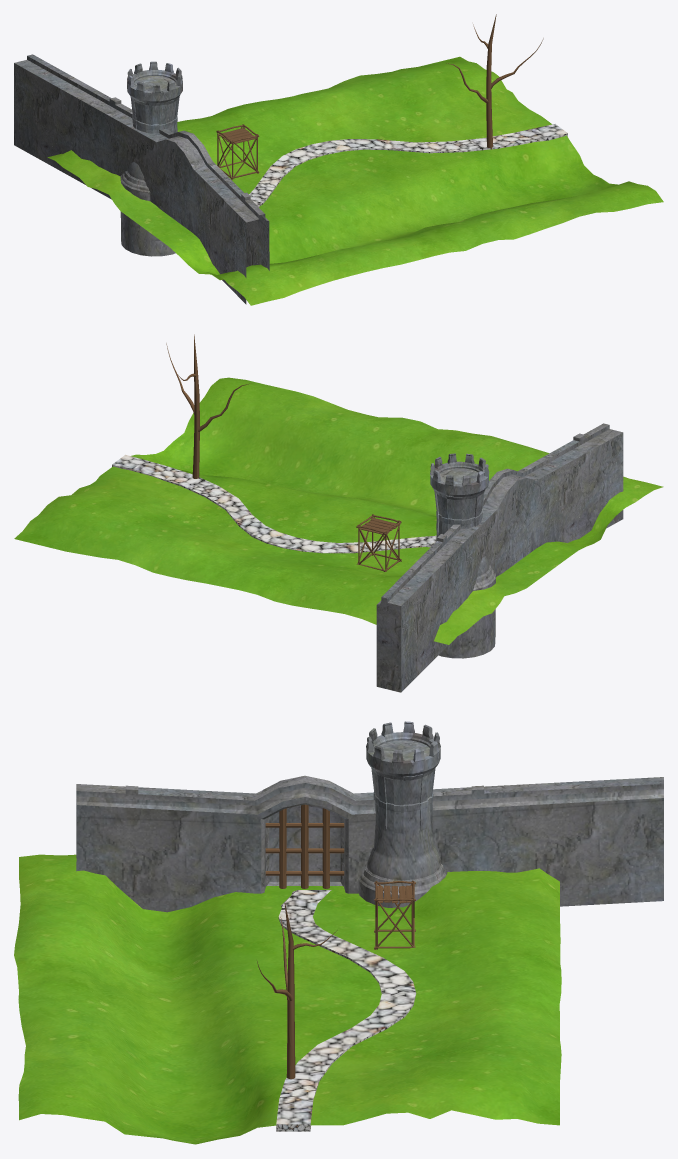
Rendered from 1-1FantasyMesh.fbx.
The picture shows the model from 3 angles, top to bottom: view 1: azimuth 30°, elevation 25°; view 2: azimuth 150°, elevation 25°; view 3: azimuth 270°, elevation 25°; orthographic projection. The views are drawn at different scales.
Visible parts, largest first — view 1: pCylinder41; view 2: pCylinder41; view 3: pCylinder41.
Part boxes in pixels (x1,y1,x2,y2): pCylinder41: (14,14,663,305); pCylinder41: (14,334,663,692); pCylinder41: (14,721,663,1144).
Bounding box in the file's own units: 2991 × 1299 × 3066.
1 material, 1 textured.
